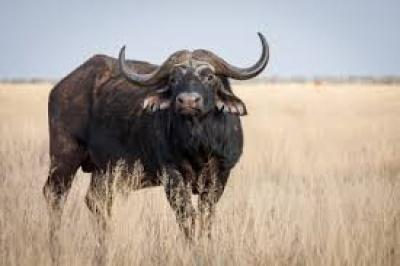buffalo: (42, 35, 270, 242)
